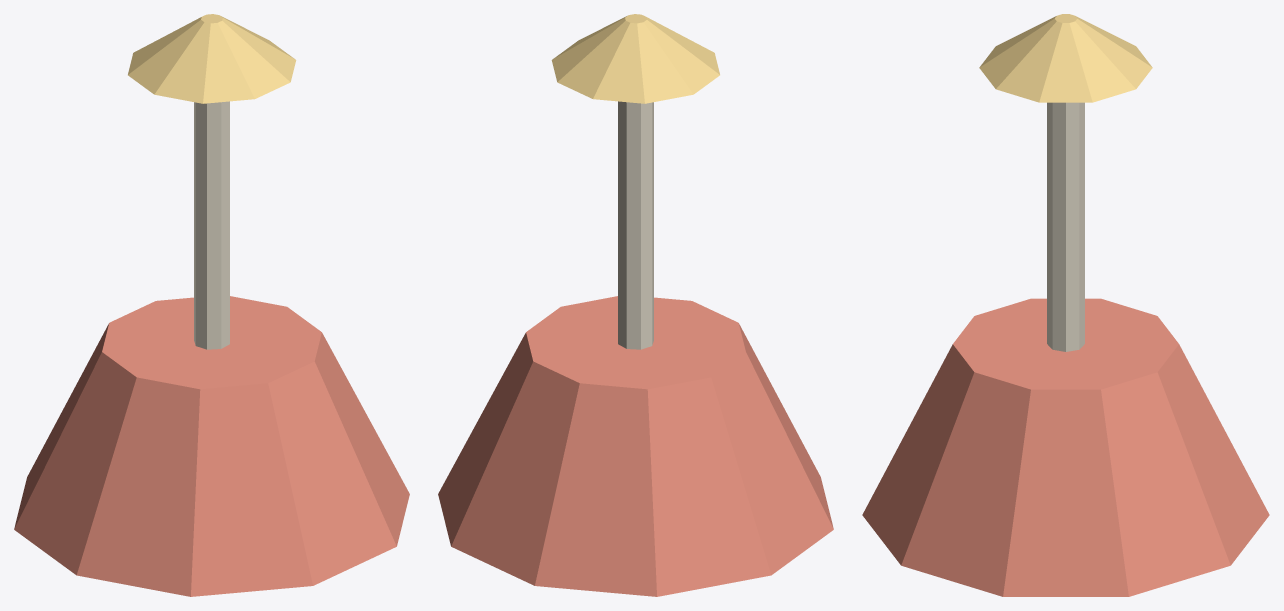
The model's file is bell_buoy_far-CwivdWow.glb.
3 renders of one model, left to right at view 1: azimuth 30°, elevation 25°; view 2: azimuth 150°, elevation 25°; view 3: azimuth 270°, elevation 25°, orthographic.
Visible parts, largest first — view 1: bell_buoy_far; view 2: bell_buoy_far; view 3: bell_buoy_far.
Part boxes in pixels (bbox=[...]): bell_buoy_far: bbox=[14, 14, 409, 596]; bell_buoy_far: bbox=[438, 14, 833, 596]; bell_buoy_far: bbox=[862, 14, 1269, 596].
Size of the model in its own units: 5.14 by 7.26 by 5.4.
